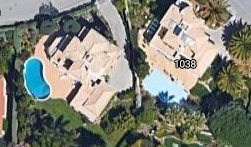pool: (26, 62, 49, 98)
